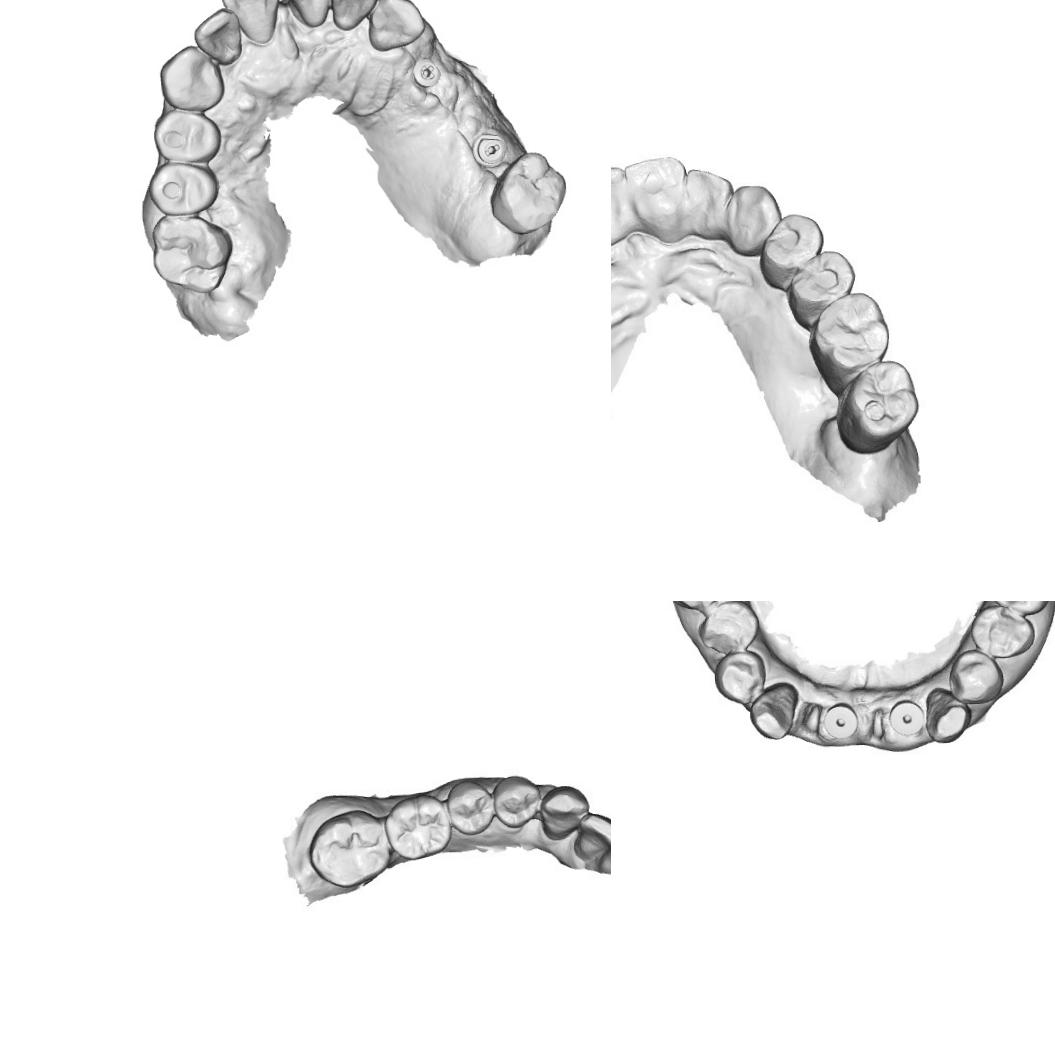canine: (156, 43, 226, 115), (722, 182, 784, 258), (365, 0, 427, 53), (538, 782, 590, 842), (748, 682, 798, 742), (924, 686, 973, 744)
implant: (888, 698, 926, 736), (821, 702, 859, 740)
implant_minus: (471, 134, 509, 170)
implant_plus: (410, 56, 442, 90)
incisor: (622, 154, 690, 234), (682, 165, 736, 236), (191, 6, 244, 68), (218, 0, 283, 47), (570, 810, 611, 863), (280, 0, 343, 29), (329, 0, 380, 33), (611, 165, 630, 246), (592, 834, 611, 877)
molar: (834, 358, 922, 456), (806, 290, 892, 382), (148, 212, 235, 296), (488, 150, 570, 238), (306, 808, 390, 890), (384, 790, 454, 860)
premolar: (783, 248, 858, 329), (756, 210, 828, 290), (144, 159, 220, 218), (150, 108, 223, 165), (970, 602, 1036, 660), (697, 601, 761, 657), (946, 648, 1006, 706), (490, 772, 547, 832), (712, 649, 768, 706), (446, 776, 498, 837)
